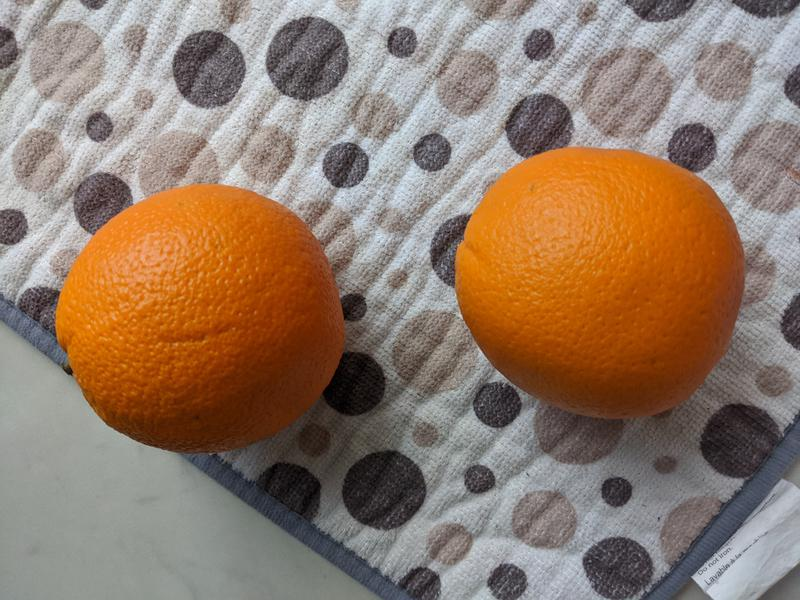orange: (452, 145, 748, 421), (53, 182, 348, 456)
